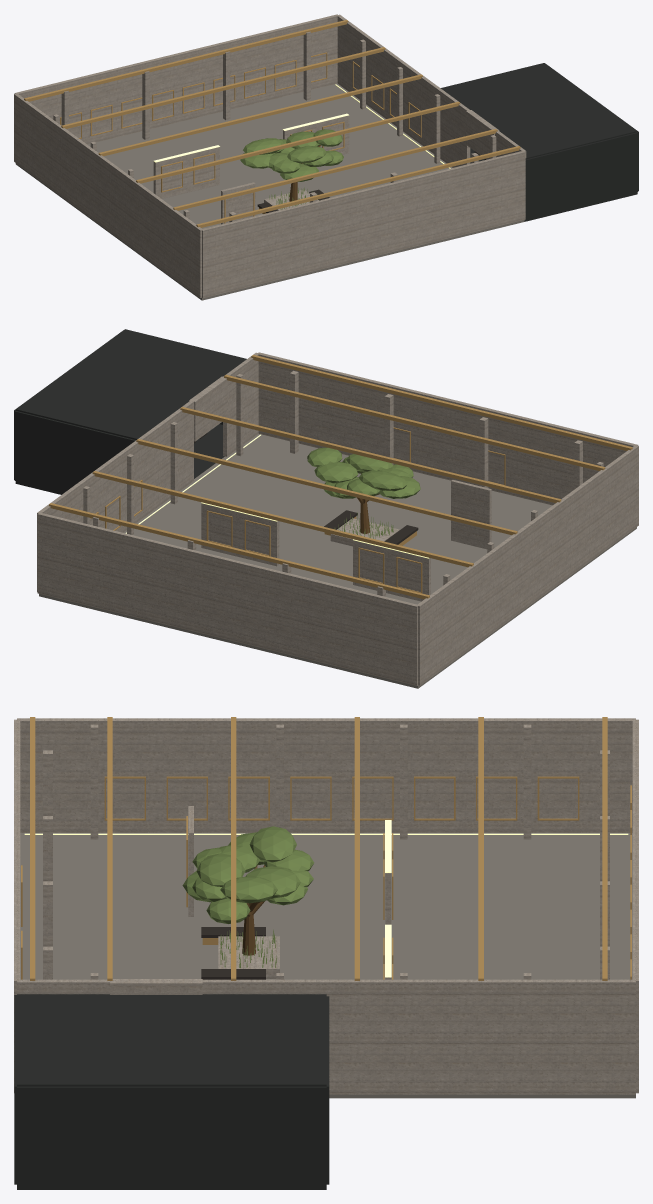
File: gallery.glb
The picture shows the model from 3 angles, top to bottom: view 1: azimuth 30°, elevation 25°; view 2: azimuth 150°, elevation 25°; view 3: azimuth 270°, elevation 25°; orthographic projection. The views are drawn at different scales.
Parts seen in each view (by area): view 1: South wall, Terrazzo main hall, North wall, West wall, Cinema ceiling, East north wall, Cinema acoustic wall.001, Exhibition partition, Roof cross beam.002, Roof cross beam.005, Roof cross beam.003, Roof cross beam.001 (+10 smaller); view 2: North wall, Terrazzo main hall, South wall, West wall, Cinema ceiling, East north wall, Cinema acoustic wall, Exhibition partition.001, Exhibition partition, Portrait freestanding wall, Roof cross beam.002, Roof cross beam.001 (+17 smaller); view 3: Terrazzo main hall, West wall, East north wall, Cinema rear screen wall, Cinema ceiling, North wall, South wall, Central tree planter, Roof cross beam, Roof cross beam.001, Roof cross beam.002, Roof cross beam.003 (+20 smaller).
Part boxes in pixels (box(x1,y1,x2,y2)): South wall: box(201, 150, 525, 298); Terrazzo main hall: box(15, 83, 524, 300); North wall: box(14, 14, 338, 144); West wall: box(14, 93, 202, 297); Cinema ceiling: box(440, 63, 637, 159); East north wall: box(337, 14, 470, 167); Cinema acoustic wall.001: box(525, 132, 638, 219); Exhibition partition: box(153, 147, 219, 198); Roof cross beam.002: box(98, 74, 422, 156); Roof cross beam.005: box(196, 146, 520, 227); Roof cross beam.003: box(136, 101, 460, 183); Roof cross beam.001: box(61, 47, 385, 128); North wall: box(37, 513, 418, 685); Terrazzo main hall: box(39, 434, 636, 688); South wall: box(258, 352, 638, 505); West wall: box(417, 445, 638, 685); Cinema ceiling: box(15, 329, 246, 439); East north wall: box(37, 400, 193, 592); Cinema acoustic wall: box(14, 411, 135, 492); Exhibition partition.001: box(201, 503, 279, 566); Exhibition partition: box(353, 540, 430, 601); Portrait freestanding wall: box(451, 480, 491, 549); Roof cross beam.002: box(136, 439, 517, 535); Roof cross beam.001: box(92, 471, 473, 567); Terrazzo main hall: box(20, 833, 635, 1098); West wall: box(17, 718, 635, 832); East north wall: box(202, 979, 635, 1094); Cinema rear screen wall: box(17, 1086, 326, 1185); Cinema ceiling: box(17, 994, 326, 1086); North wall: box(632, 719, 638, 1093); South wall: box(14, 719, 20, 1092); Central tree planter: box(218, 936, 279, 978); Roof cross beam: box(602, 717, 607, 980); Roof cross beam.001: box(478, 717, 483, 980); Roof cross beam.002: box(354, 717, 359, 980); Roof cross beam.003: box(231, 717, 236, 980).
Size of the model in its own units: 54.38 by 8.54 by 40.4.
Materials: 8 (1 with a texture image).
